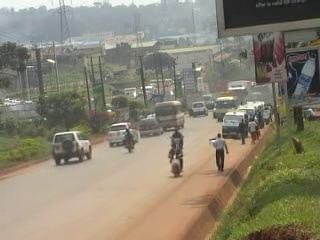Car: (50, 128, 97, 167), (105, 121, 140, 149), (136, 115, 163, 135), (191, 100, 209, 118)
Motorcycle: (164, 144, 186, 177), (168, 128, 184, 157), (120, 129, 136, 155)
